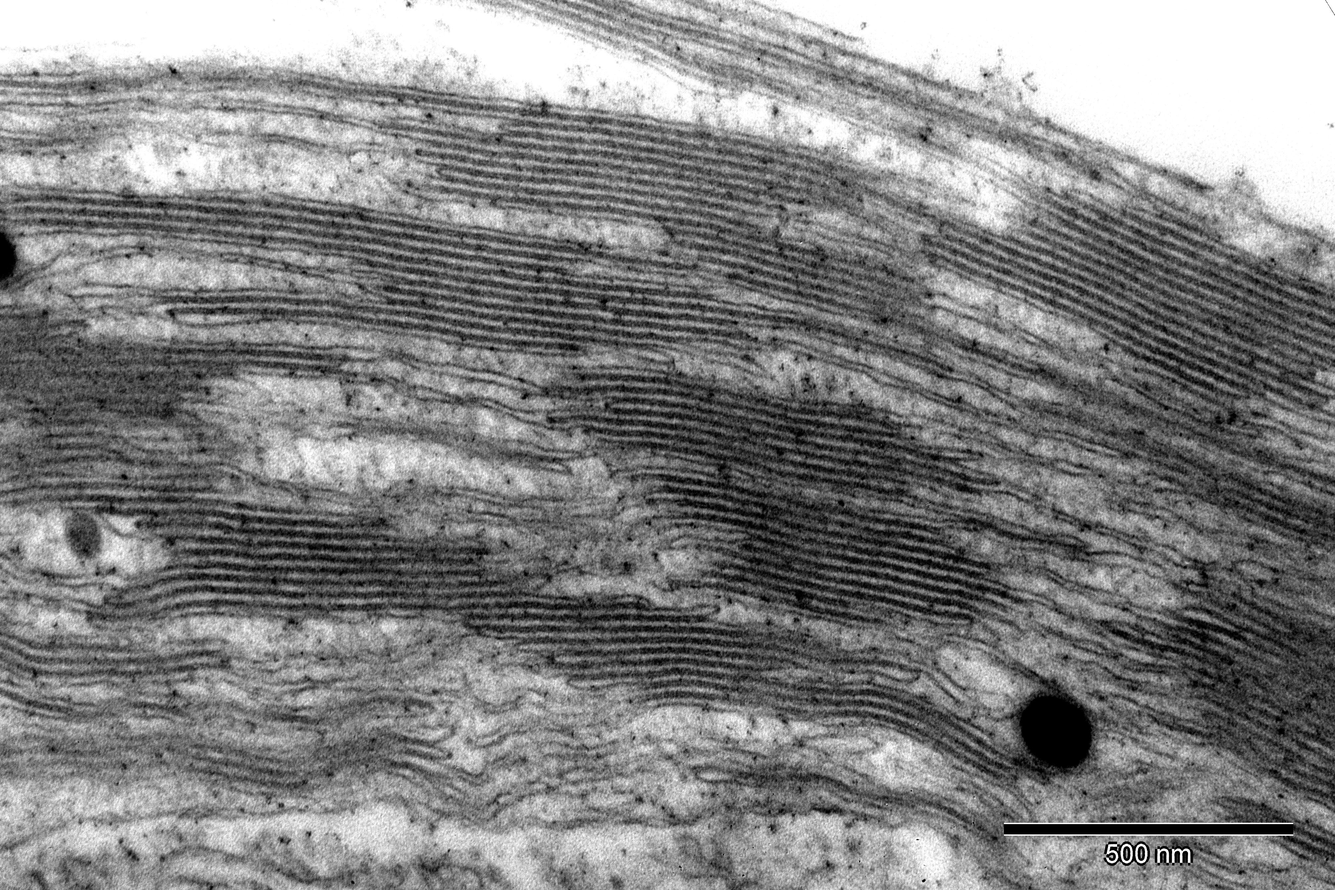granum: (0, 177, 742, 361), (415, 94, 933, 341), (920, 172, 1335, 429), (513, 589, 1026, 792), (0, 298, 342, 520), (644, 463, 1038, 638), (561, 361, 991, 508), (106, 493, 526, 643), (1130, 552, 1335, 821), (1, 719, 475, 821), (409, 0, 753, 99), (0, 613, 227, 725), (1135, 433, 1334, 555), (1223, 787, 1334, 889)
